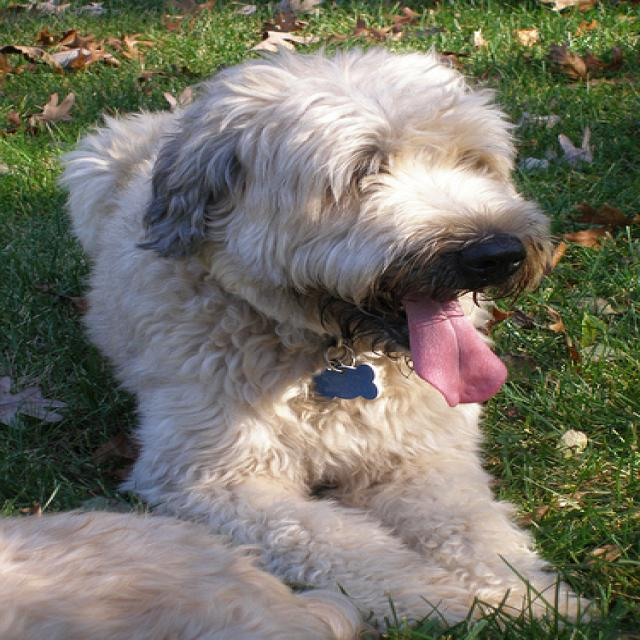dog-wheaten_terrier: (51, 36, 618, 637)
